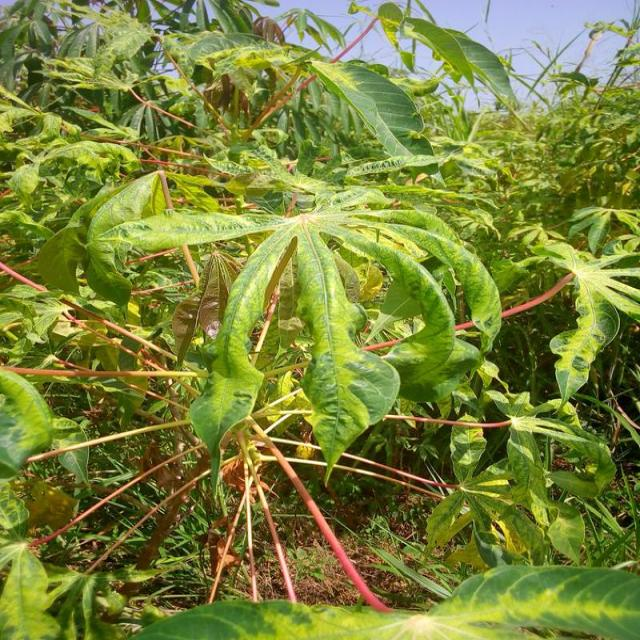cassava leaf: (88, 171, 502, 488), (190, 214, 402, 488)
